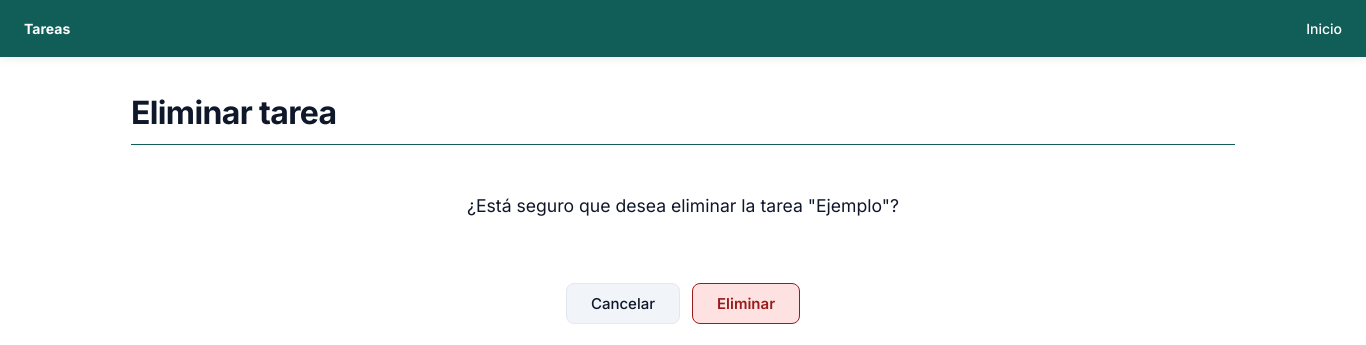
Test: tests de eliminar tarea con paginador activado › al fallar la eliminacion se muestra toast de error
Click the button with test id "eliminar".
click(746, 304)  # box [692, 283, 800, 324]
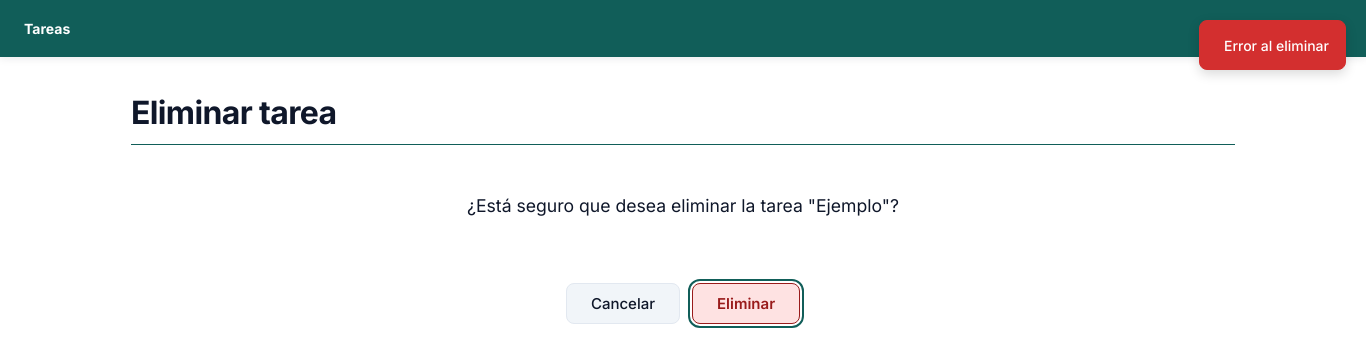
Result: the text "Error al eliminar" is shown at [1199, 20, 1346, 70]
